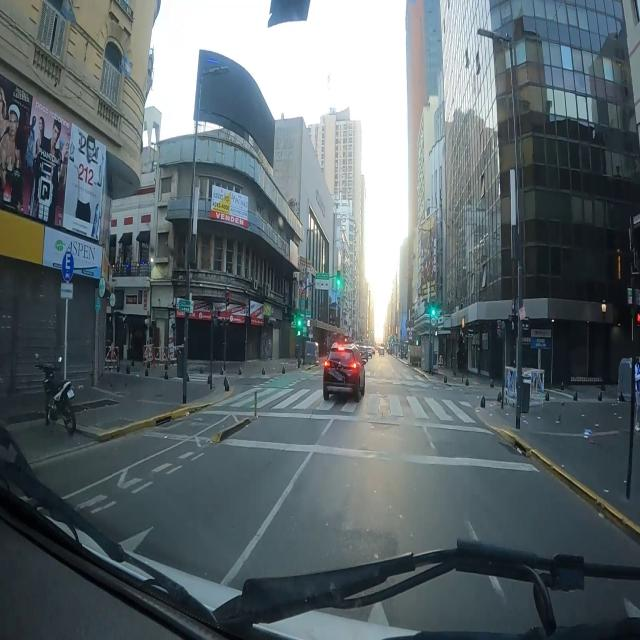car: (323, 344, 365, 401), (378, 347, 384, 356)
motorcycle: (36, 364, 76, 435)
